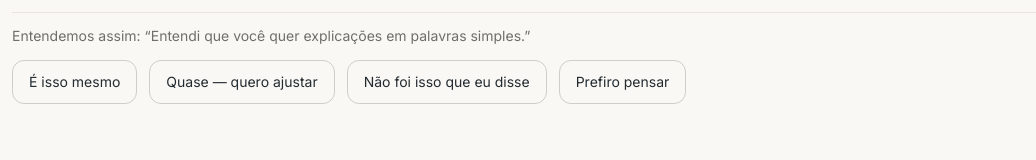
C8/C9 · cada retorno da RPC tem a própria frase › TEXTO_OBRIGATORIO chega à tela com a frase específica, nunca a genérica
Click the button "É isso mesmo" at (75, 82), box [12, 60, 137, 104]
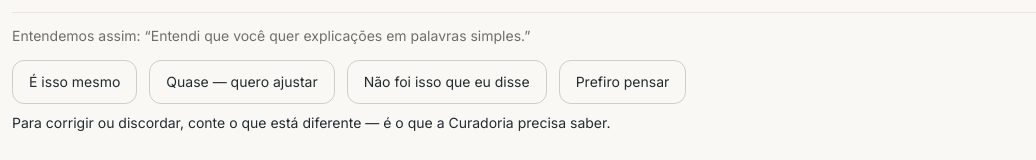
Check: the message shows "Para corrigir ou discordar, conte o que está diferente — é o que a Curadoria precisa saber.", box [12, 114, 610, 131]
